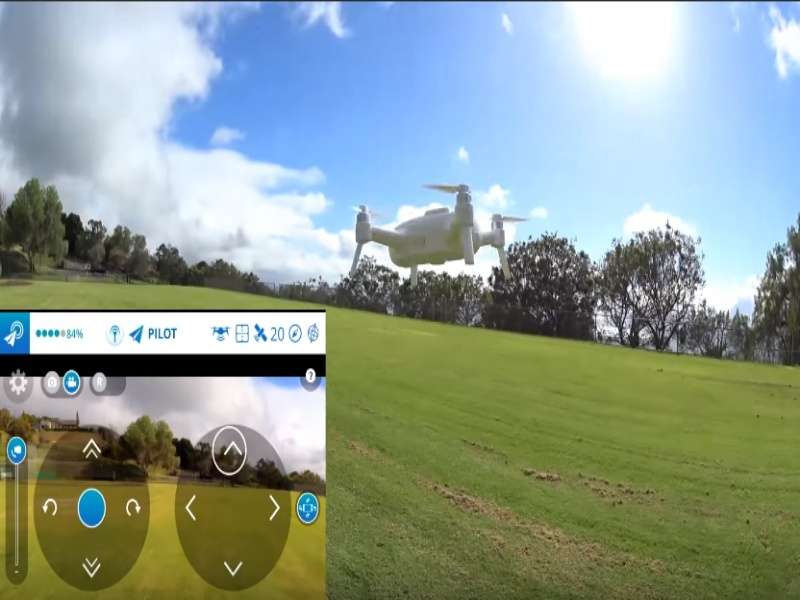drone: (345, 178, 528, 294)
